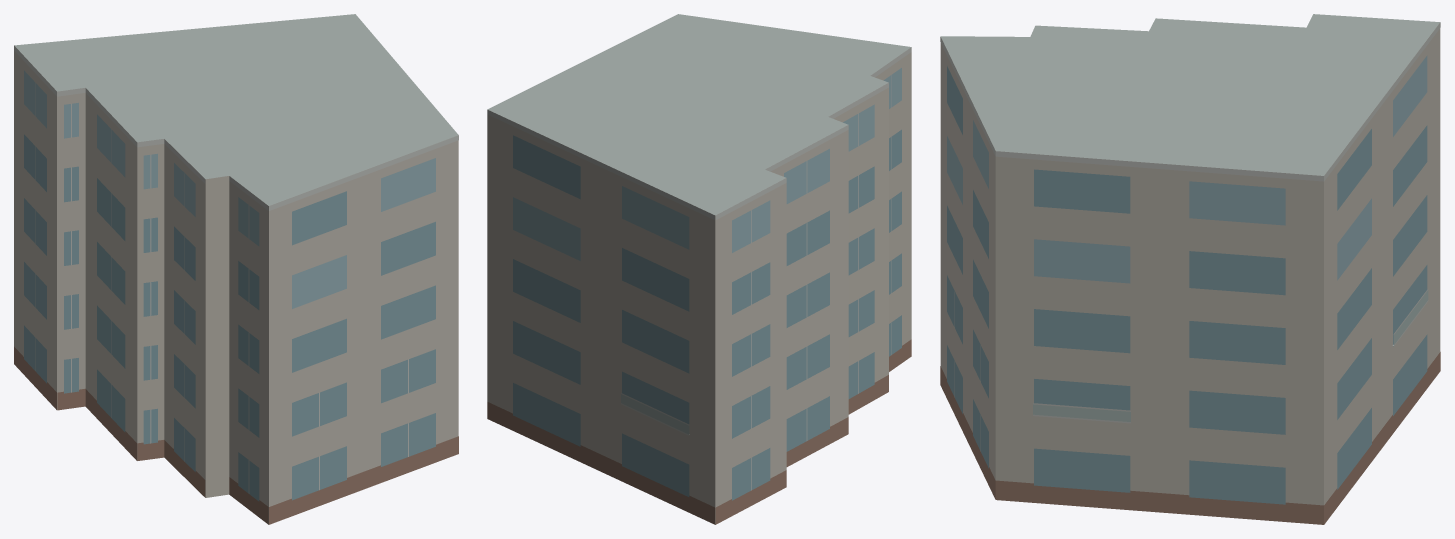
File: survey-upis-32823766.glb
3 renders of one model, left to right at view 1: azimuth 30°, elevation 25°; view 2: azimuth 150°, elevation 25°; view 3: azimuth 270°, elevation 25°, orthographic. The views are drawn at different scales.
Visible parts, largest first — view 1: survey-upis-32823766.tmp; view 2: survey-upis-32823766.tmp; view 3: survey-upis-32823766.tmp.
Boxes of the visible parts, x1,y1,x2,y2 form: survey-upis-32823766.tmp: (14, 14, 458, 524); survey-upis-32823766.tmp: (487, 14, 911, 524); survey-upis-32823766.tmp: (940, 14, 1440, 524).
Bounding box in the file's own units: 15.35 × 15.4 × 20.01.
